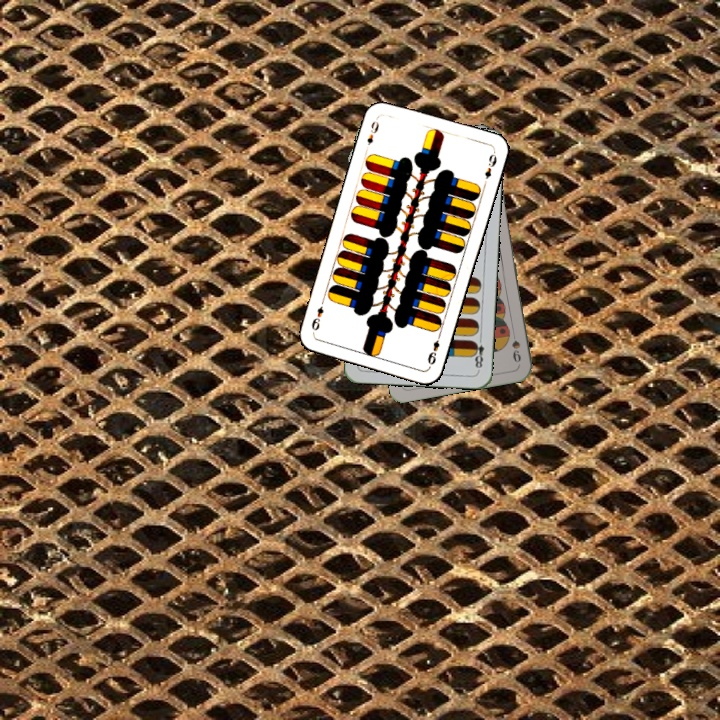E8: (469, 332, 486, 373)
E9: (424, 329, 444, 367), (363, 114, 382, 148)
S9: (508, 325, 523, 365)
